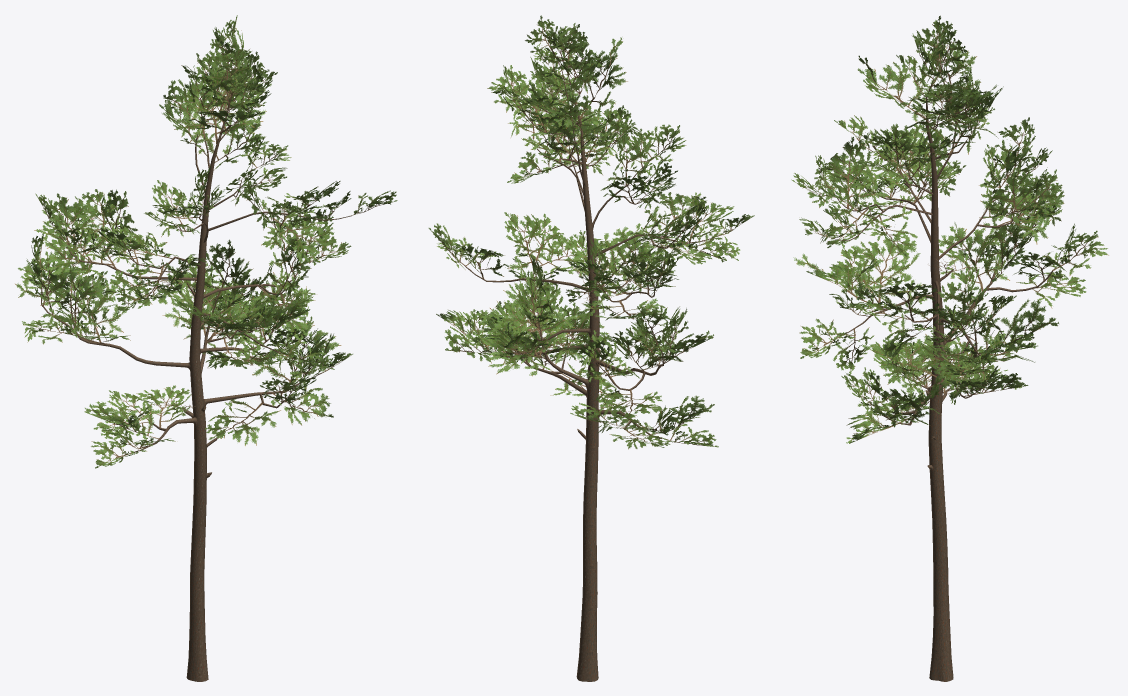
File: tree_pine_b.glb
3 renders of one model, left to right at view 1: azimuth 30°, elevation 25°; view 2: azimuth 150°, elevation 25°; view 3: azimuth 270°, elevation 25°, orthographic. The views are drawn at different scales.
Visible parts, largest first — view 1: tree_pine_b; view 2: tree_pine_b; view 3: tree_pine_b.
Part boxes in pixels (x1=…): tree_pine_b: x1=15, y1=15, x2=397, y2=681; tree_pine_b: x1=428, y1=15, x2=754, y2=681; tree_pine_b: x1=791, y1=15, x2=1108, y2=681.
Bounding box in the file's own units: 32.55 × 69.74 × 30.77.
2 materials, 2 textured.
